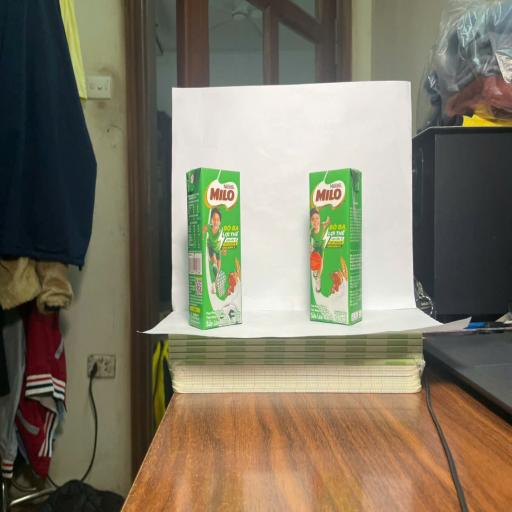milo: (187, 167, 240, 328), (310, 169, 361, 323)
